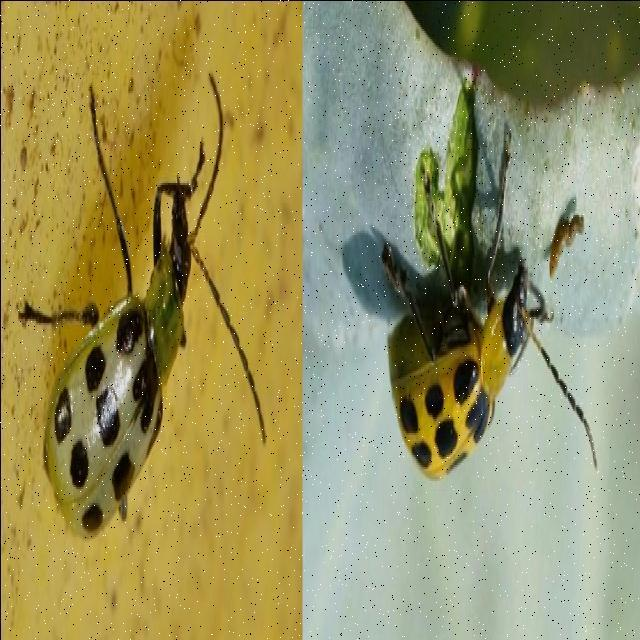gusano_verde: (18, 70, 264, 544), (380, 128, 596, 470)
